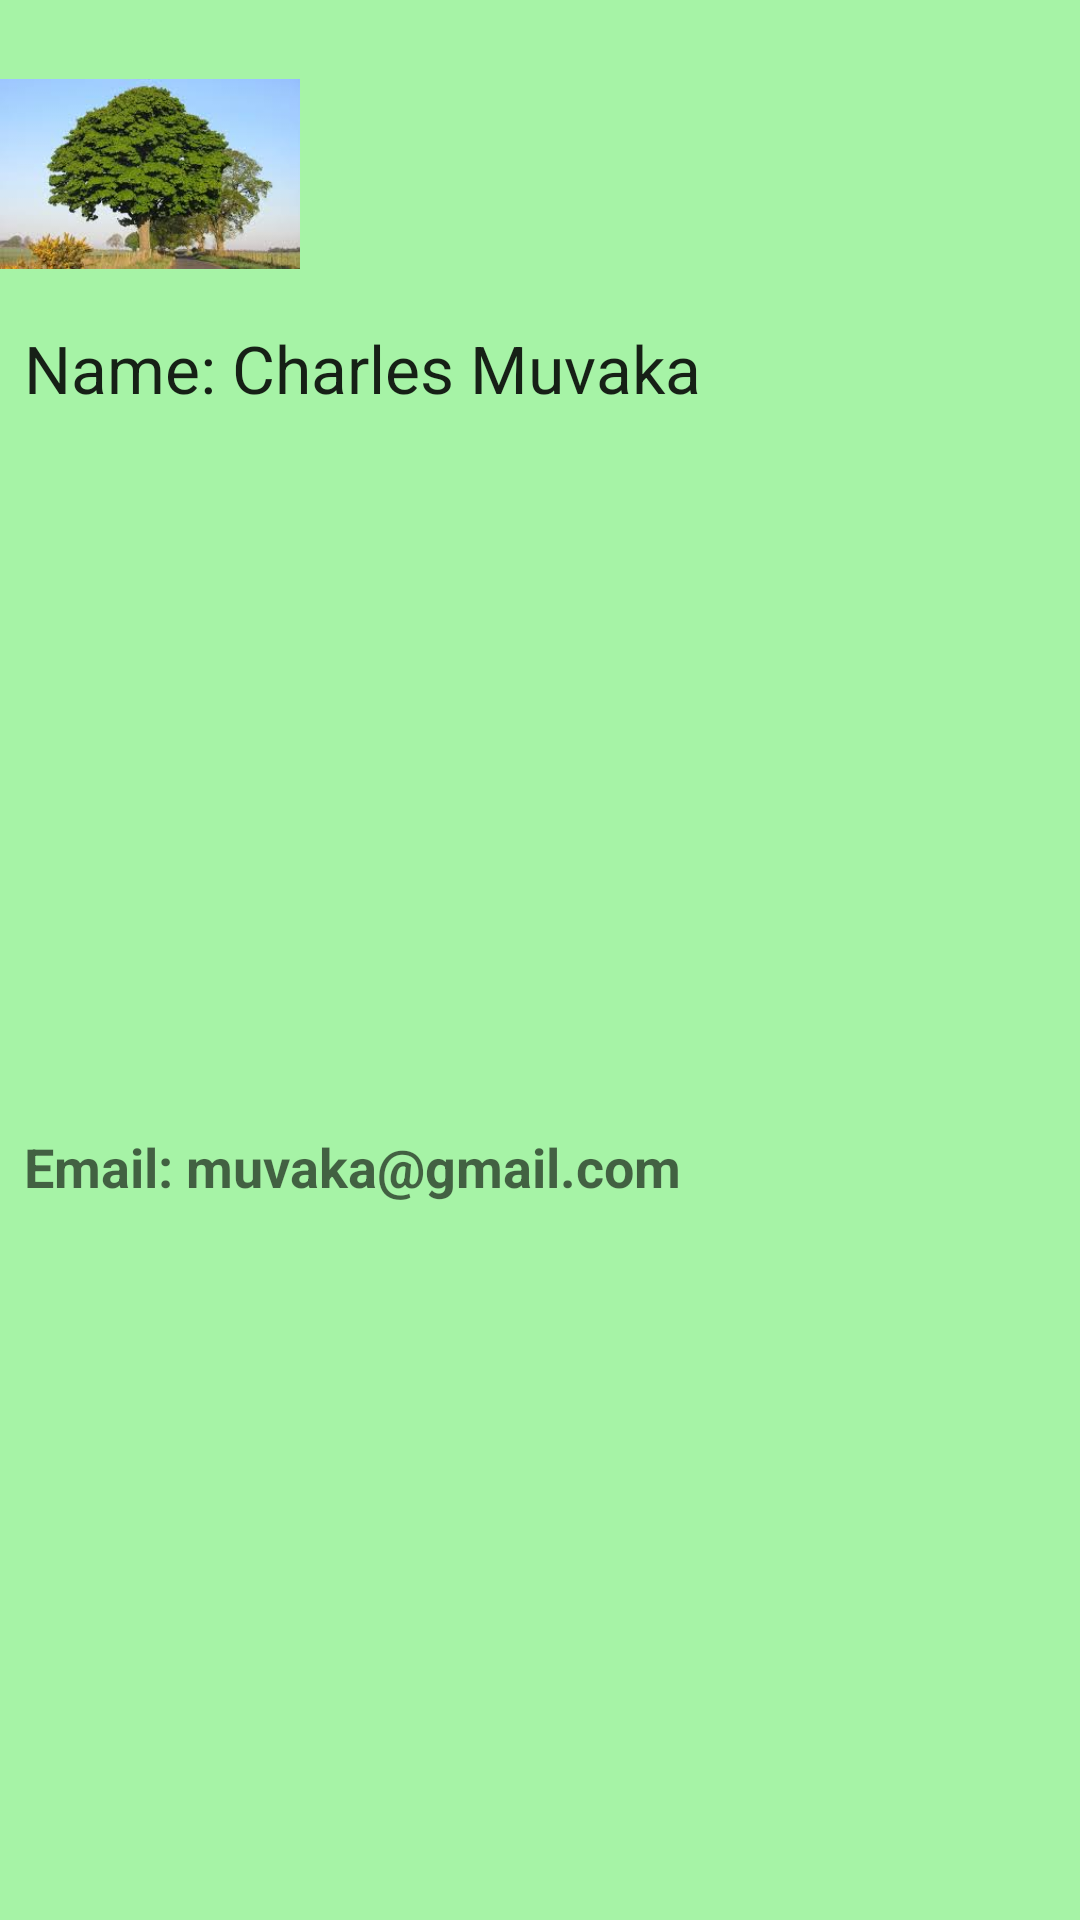

Screen size 1080×1920. Icon name, then its center in pixels as point (x, y):
tree: point (150, 174)
